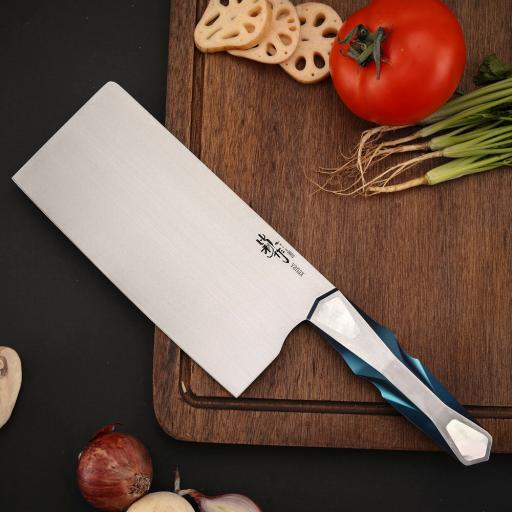knife: (0, 81, 503, 488)
